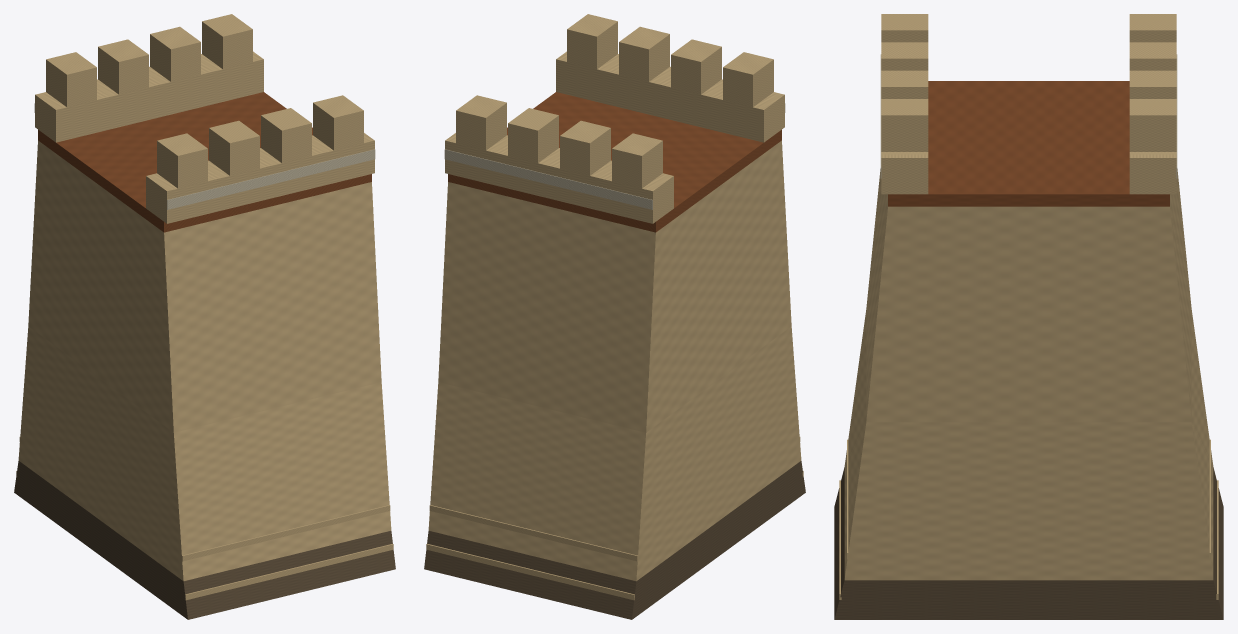
The model's file is Berber_Wall_Age3_gap_4m.fbx.
The picture shows the model from 3 angles, left to right: view 1: azimuth 30°, elevation 25°; view 2: azimuth 150°, elevation 25°; view 3: azimuth 270°, elevation 25°; orthographic projection. The views are drawn at different scales.
Visible parts, largest first — view 1: gap_4m_rammed_curtain_upper, gap_4m_rammed_curtain_lower, gap_4m_battered_stone_foot, gap_4m_walk_deck, gap_4m_parapet.001, gap_4m_parapet, gap_4m_merlon.003, gap_4m_merlon.002, gap_4m_merlon.005, gap_4m_merlon, gap_4m_merlon.004, gap_4m_merlon.001 (+6 smaller); view 2: gap_4m_rammed_curtain_upper, gap_4m_rammed_curtain_lower, gap_4m_battered_stone_foot, gap_4m_walk_deck, gap_4m_parapet, gap_4m_parapet.001, gap_4m_merlon.003, gap_4m_merlon.007, gap_4m_merlon, gap_4m_merlon.004, gap_4m_merlon.005, gap_4m_merlon.006 (+6 smaller); view 3: gap_4m_rammed_curtain_upper, gap_4m_rammed_curtain_lower, gap_4m_walk_deck, gap_4m_battered_stone_foot, gap_4m_merlon.007, gap_4m_merlon.003, gap_4m_parapet, gap_4m_parapet.001, gap_4m_merlon.001, gap_4m_merlon.004, gap_4m_merlon.005, gap_4m_merlon.006 (+2 smaller).
Boxes of the visible parts, x1,y1,x2,y2 form: gap_4m_rammed_curtain_upper: (28, 140, 381, 432); gap_4m_rammed_curtain_lower: (18, 326, 391, 581); gap_4m_battered_stone_foot: (14, 461, 395, 619); gap_4m_walk_deck: (38, 92, 371, 232); gap_4m_parapet.001: (35, 51, 263, 142); gap_4m_parapet: (146, 133, 374, 223); gap_4m_merlon.003: (313, 95, 363, 150); gap_4m_merlon.002: (261, 108, 311, 162); gap_4m_merlon.005: (98, 39, 148, 94); gap_4m_merlon: (157, 134, 207, 188); gap_4m_merlon.004: (46, 52, 96, 107); gap_4m_merlon.001: (209, 121, 259, 175); gap_4m_rammed_curtain_upper: (438, 140, 791, 432); gap_4m_rammed_curtain_lower: (428, 326, 801, 581); gap_4m_battered_stone_foot: (424, 461, 805, 619); gap_4m_walk_deck: (448, 92, 781, 232); gap_4m_parapet: (556, 51, 784, 142); gap_4m_parapet.001: (445, 133, 673, 223); gap_4m_merlon.003: (567, 14, 617, 69); gap_4m_merlon.007: (456, 95, 506, 150); gap_4m_merlon: (723, 52, 773, 107); gap_4m_merlon.004: (612, 133, 662, 188); gap_4m_merlon.005: (560, 120, 610, 175); gap_4m_merlon.006: (508, 108, 558, 162); gap_4m_rammed_curtain_upper: (866, 169, 1191, 422); gap_4m_rammed_curtain_lower: (844, 310, 1213, 580); gap_4m_walk_deck: (888, 81, 1169, 206); gap_4m_battered_stone_foot: (834, 467, 1223, 619); gap_4m_merlon.007: (1129, 99, 1176, 151); gap_4m_merlon.003: (881, 99, 928, 151); gap_4m_parapet: (881, 152, 928, 194); gap_4m_parapet.001: (1129, 152, 1176, 194); gap_4m_merlon.001: (881, 42, 928, 70); gap_4m_merlon.004: (1129, 14, 1176, 42); gap_4m_merlon.005: (1129, 42, 1176, 70); gap_4m_merlon.006: (1129, 70, 1176, 98).
Bounding box in the file's own units: 400 × 820 × 580.
Materials: 4 (4 with a texture image).
